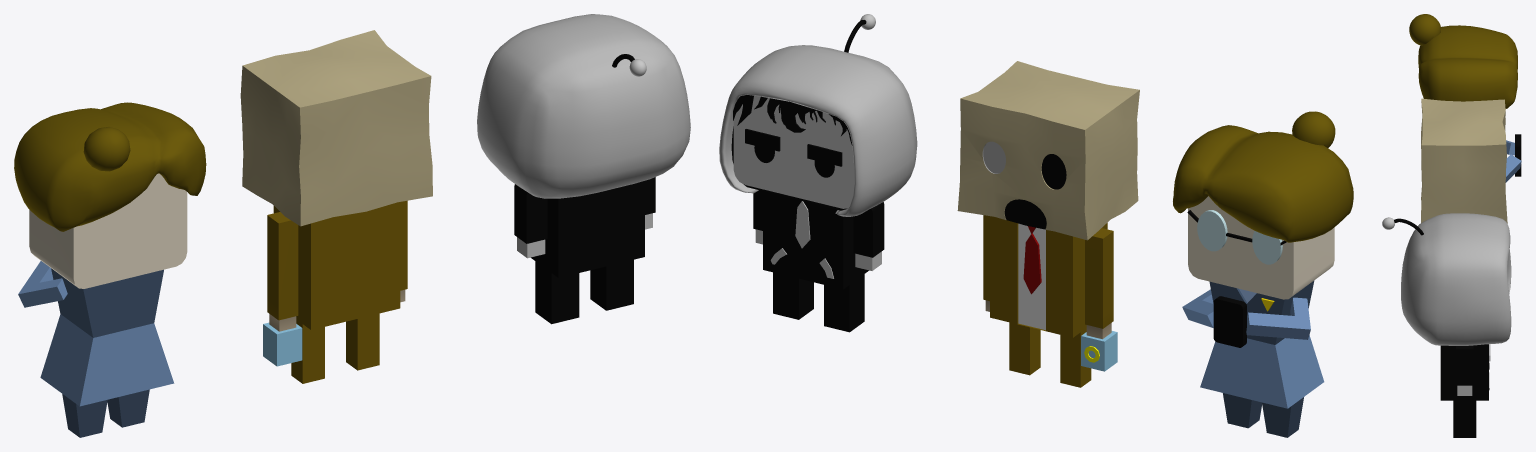
File: Enemy_Model.fbx
3 renders of one model, left to right at view 1: azimuth 30°, elevation 25°; view 2: azimuth 150°, elevation 25°; view 3: azimuth 270°, elevation 25°, orthographic. The views are drawn at different scales.
Visible parts, largest first — view 1: Chip_Crumbler_Model_Full, Dozy_Dull_Model_Full, Janet_Policymail_Model_Full; view 2: Chip_Crumbler_Model_Full, Dozy_Dull_Model_Full, Janet_Policymail_Model_Full; view 3: Dozy_Dull_Model_Full, Chip_Crumbler_Model_Full, Janet_Policymail_Model_Full.
Part boxes in pixels (bbox=[...]): Chip_Crumbler_Model_Full: bbox=[240, 30, 432, 383]; Dozy_Dull_Model_Full: bbox=[477, 14, 690, 324]; Janet_Policymail_Model_Full: bbox=[14, 102, 206, 437]; Chip_Crumbler_Model_Full: bbox=[957, 61, 1139, 387]; Dozy_Dull_Model_Full: bbox=[719, 14, 917, 332]; Janet_Policymail_Model_Full: bbox=[1173, 111, 1353, 437]; Dozy_Dull_Model_Full: bbox=[1382, 213, 1511, 437]; Chip_Crumbler_Model_Full: bbox=[1421, 98, 1507, 223]; Janet_Policymail_Model_Full: bbox=[1409, 14, 1521, 182].
Size of the model in its own units: 5.16 by 2.49 by 1.36.
